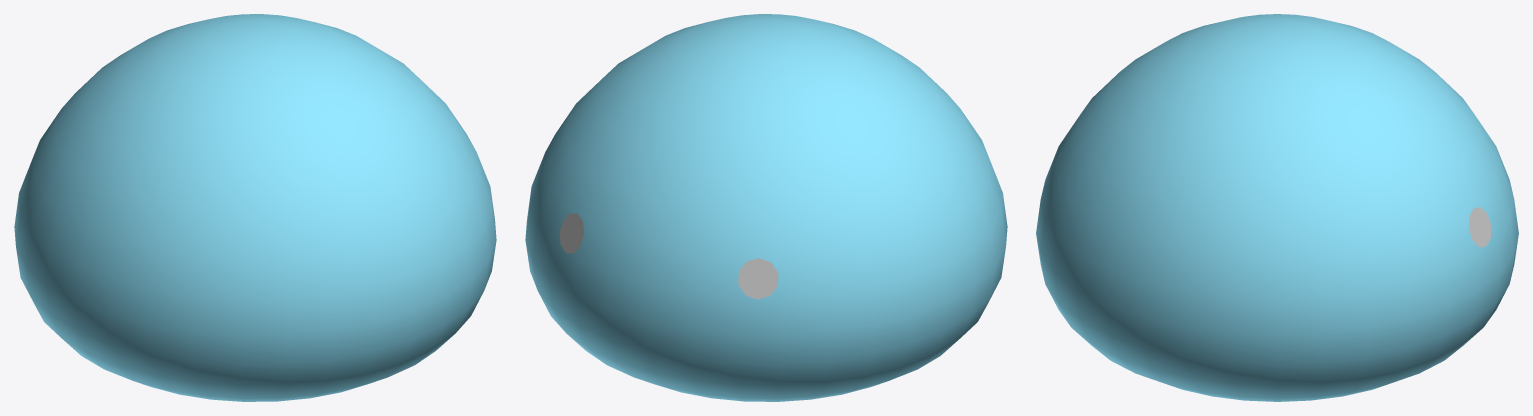
Rendered from slime.obj.
3 renders of one model, left to right at view 1: azimuth 30°, elevation 25°; view 2: azimuth 150°, elevation 25°; view 3: azimuth 270°, elevation 25°, orthographic.
Visible parts, largest first — view 1: 球; view 2: 球; view 3: 球.
Part boxes in pixels (box(x1,y1,x2,y2)): 球: box(14, 14, 496, 401); 球: box(525, 14, 1007, 401); 球: box(1036, 14, 1518, 401).
Size of the model in its own units: 2.74 by 1.96 by 2.74.
